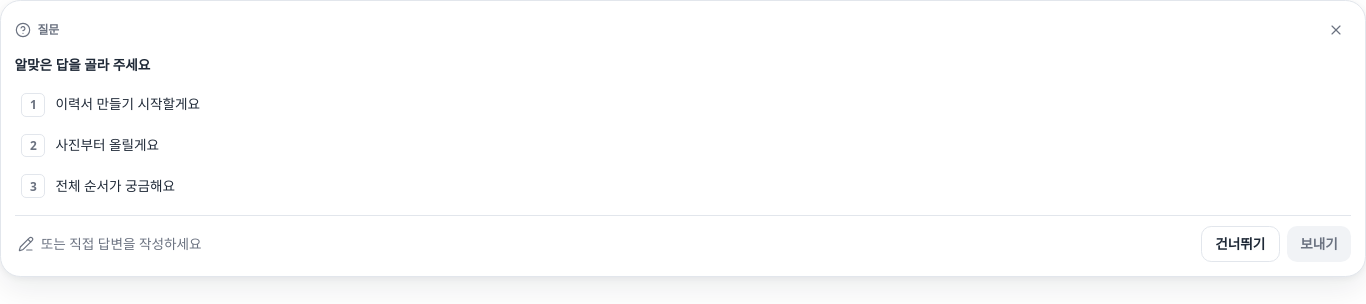
Test: QuestionCard › 카드 안에서 숫자키로 고를 수 있다
This screenshot has width=1366, height=304.
Click the radio button labelled "이력서 만들기 시작할게요". click: (111, 105)
box: [21,93,200,117]
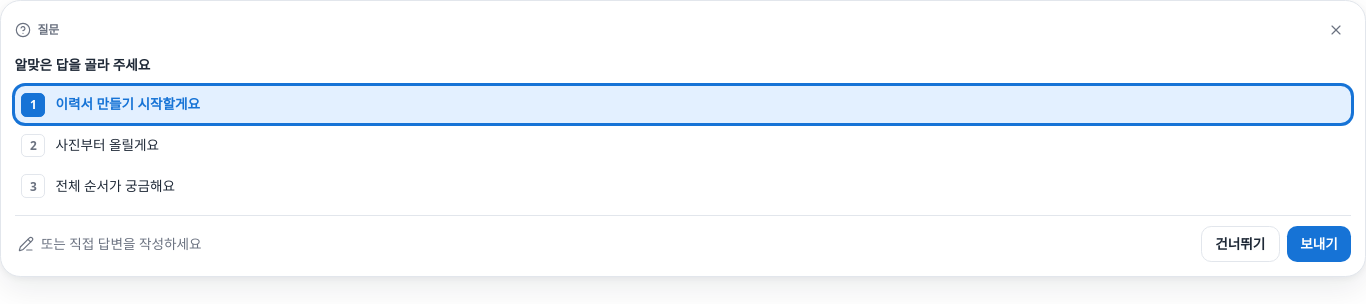
Type keys "3"
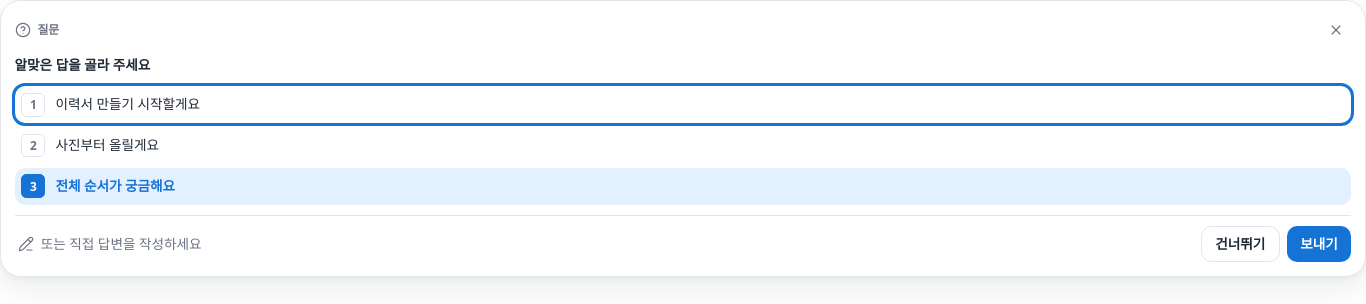
Check: the radio button labelled "전체 순서가 궁금해요" is checked, box [15,168,1351,205]
